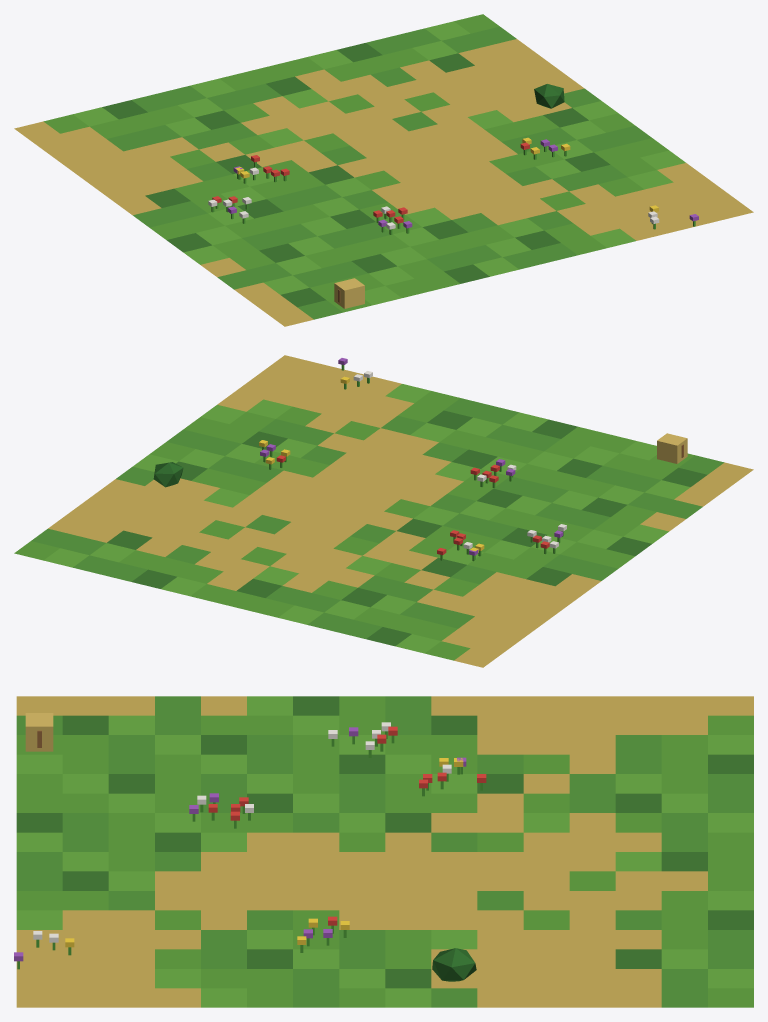
The model's file is chunk_1_11.glb.
The picture shows the model from 3 angles, top to bottom: view 1: azimuth 30°, elevation 25°; view 2: azimuth 150°, elevation 25°; view 3: azimuth 270°, elevation 25°; orthographic projection. The views are drawn at different scales.
Visible parts, largest first — view 1: chunk_1_11; view 2: chunk_1_11; view 3: chunk_1_11.
Part boxes in pixels (x1,y1,x2,y2): chunk_1_11: [14, 14, 753, 326]; chunk_1_11: [14, 355, 753, 667]; chunk_1_11: [14, 696, 753, 1007].
Size of the model in its own units: 16 by 0.804 by 16.06.
